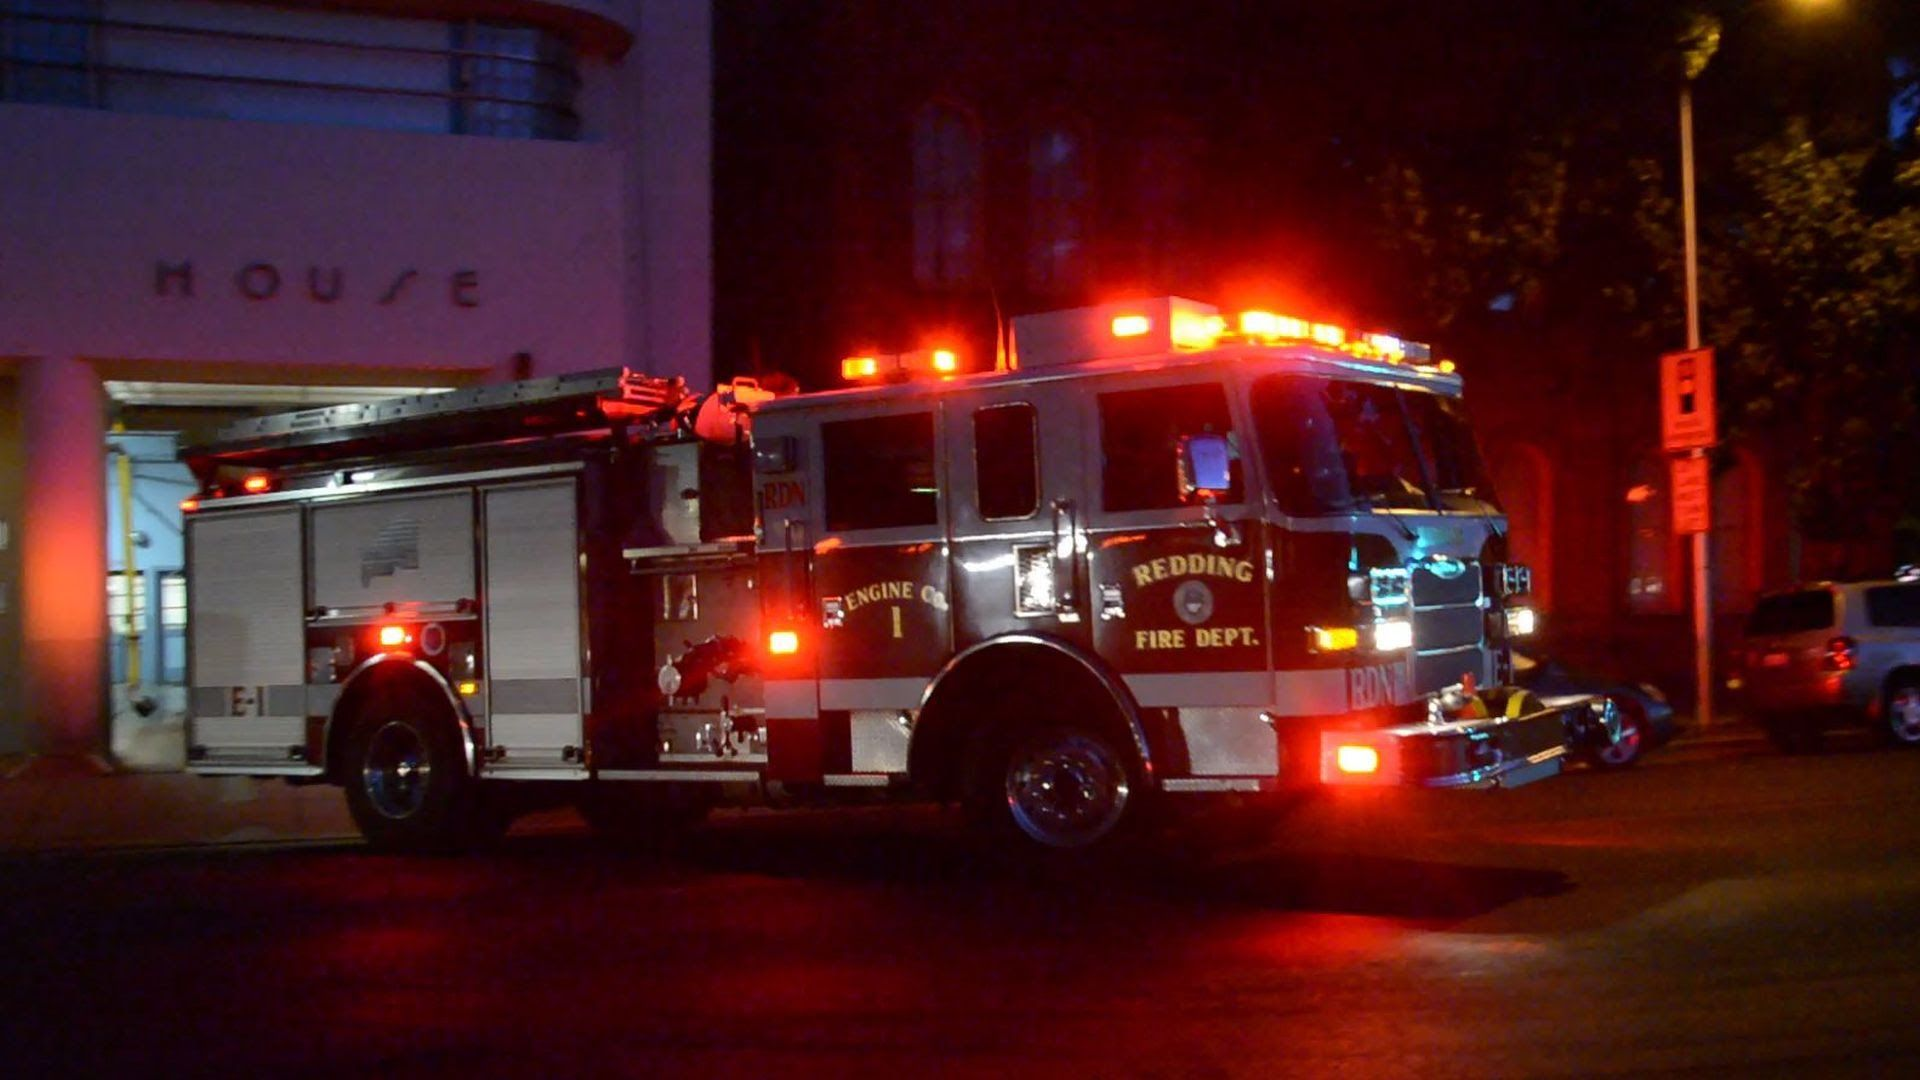special: (165, 295, 1611, 870)
